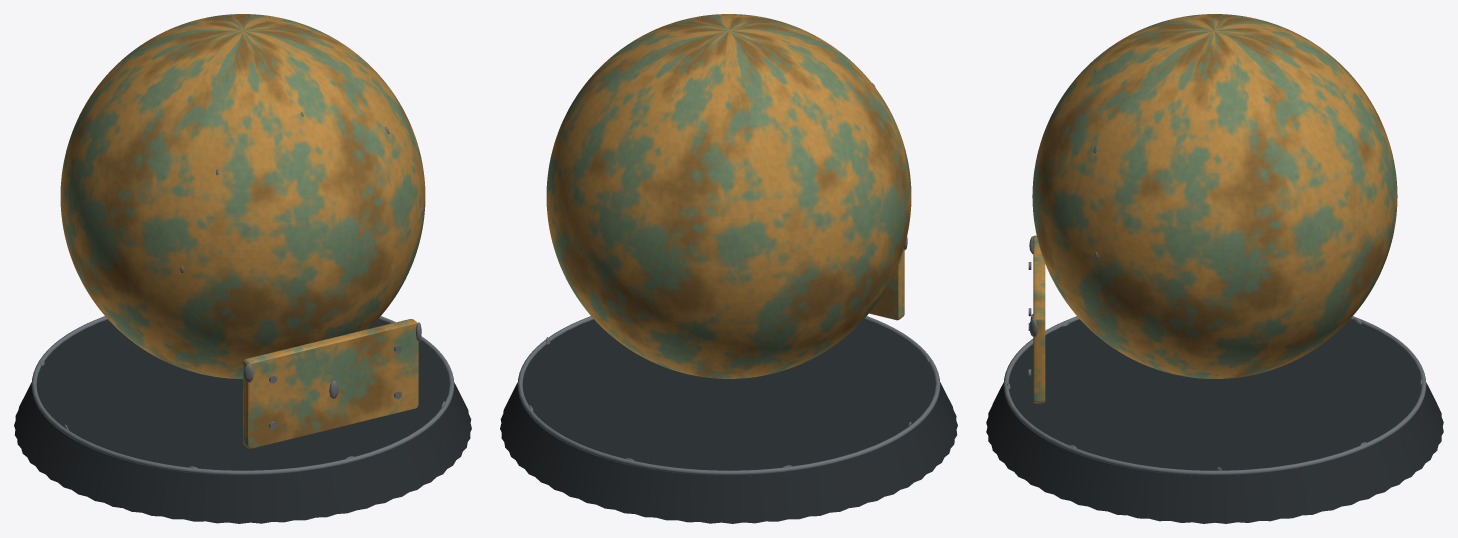
The picture shows the model from 3 angles, left to right: view 1: azimuth 30°, elevation 25°; view 2: azimuth 150°, elevation 25°; view 3: azimuth 270°, elevation 25°; orthographic projection.
Visible parts, largest first — view 1: surface specimen, neutral specimen stand, specimen edge; view 2: surface specimen, neutral specimen stand, specimen edge; view 3: surface specimen, neutral specimen stand, specimen edge.
Part boxes in pixels (x1=…): surface specimen: x1=60, y1=14, x2=425, y2=448; neutral specimen stand: x1=14, y1=319, x2=471, y2=523; specimen edge: x1=31, y1=316, x2=454, y2=475; surface specimen: x1=546, y1=14, x2=911, y2=378; neutral specimen stand: x1=500, y1=319, x2=957, y2=523; specimen edge: x1=517, y1=316, x2=940, y2=475; surface specimen: x1=1032, y1=14, x2=1397, y2=403; neutral specimen stand: x1=986, y1=319, x2=1443, y2=523; specimen edge: x1=1003, y1=262, x2=1426, y2=475.
Size of the model in its own units: 0.539 by 0.515 by 0.539.
4 materials, 1 textured.
